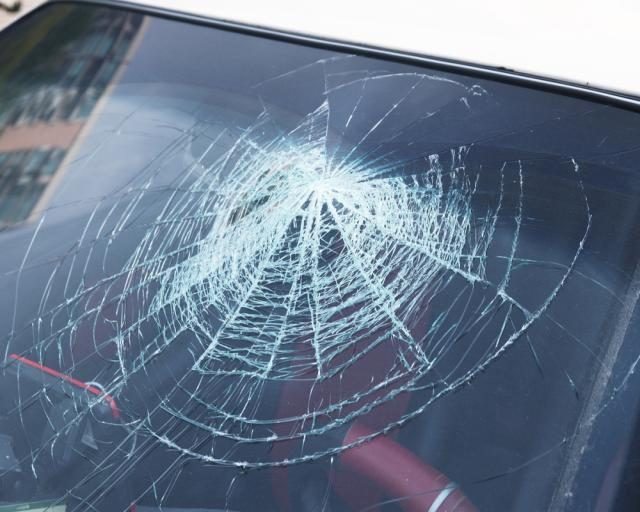glass shatter: (0, 1, 640, 512)
